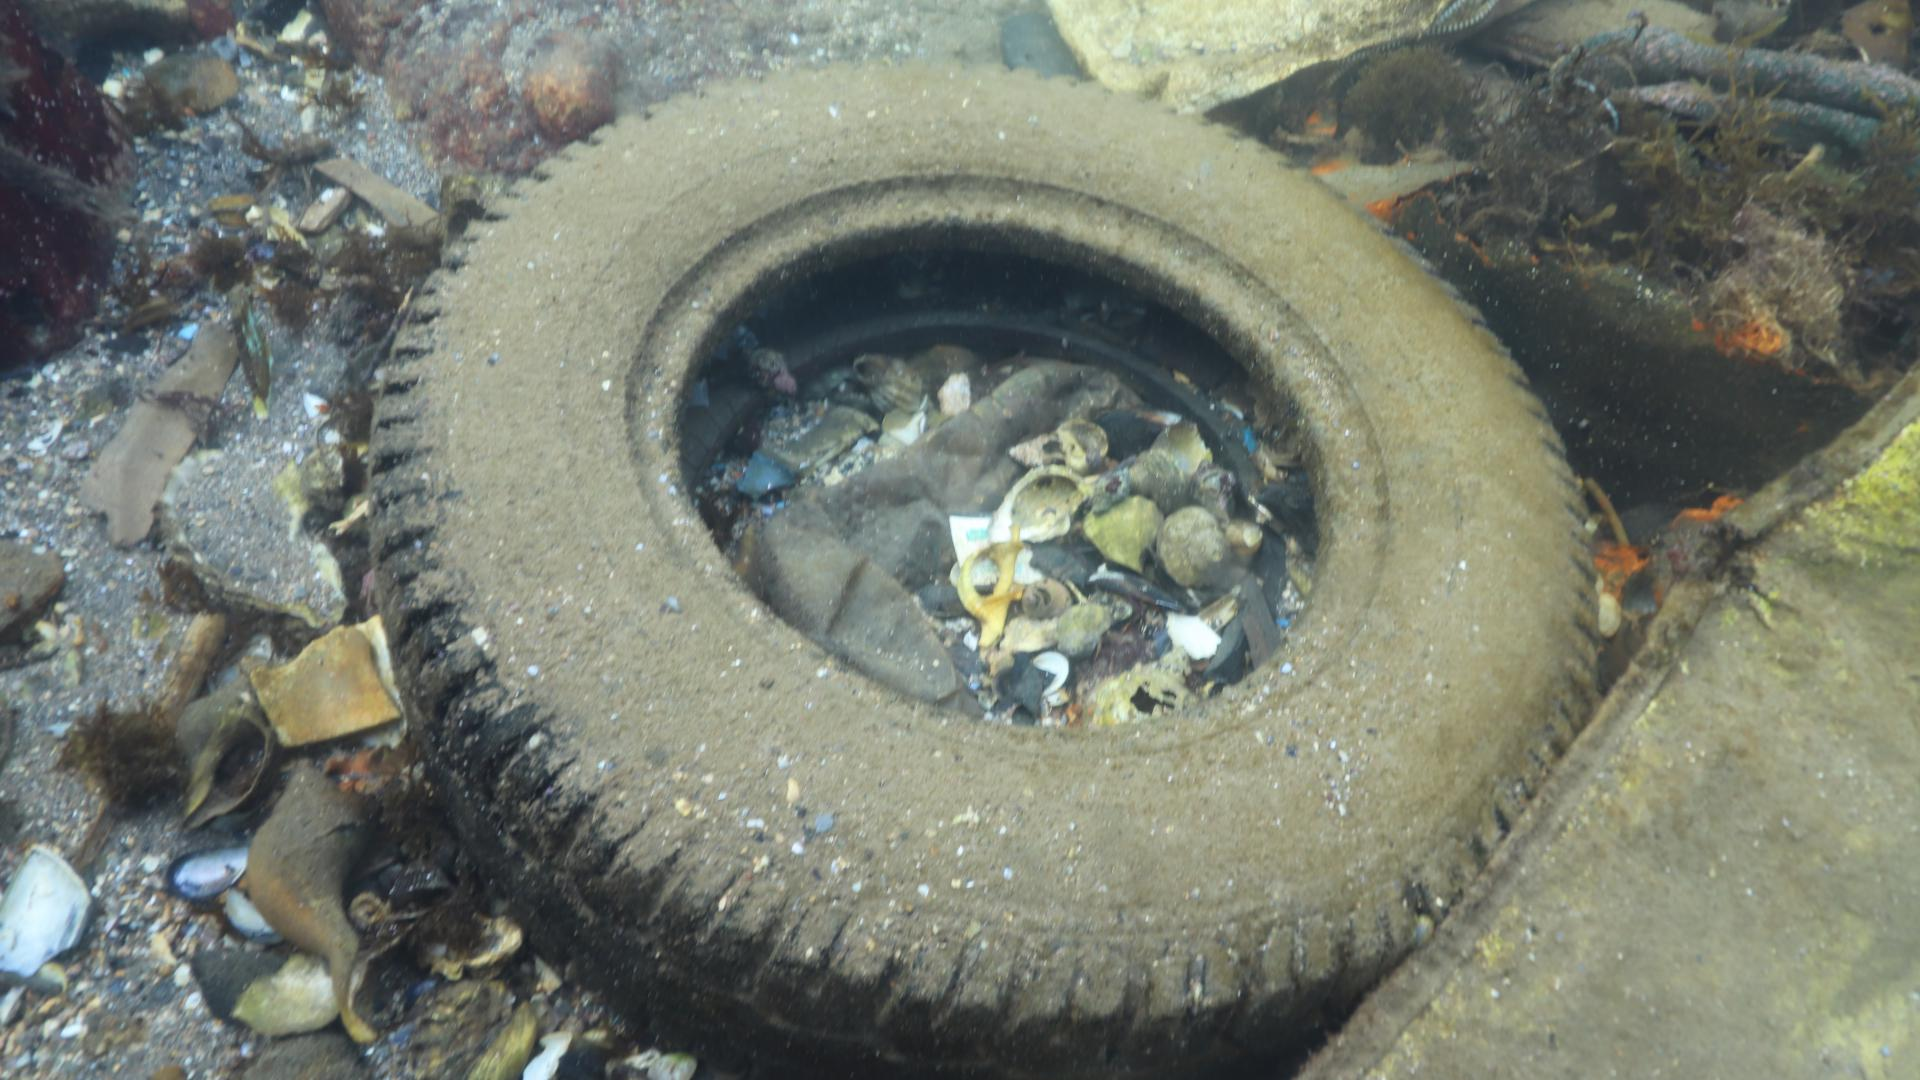tire: (363, 58, 1592, 1080)
